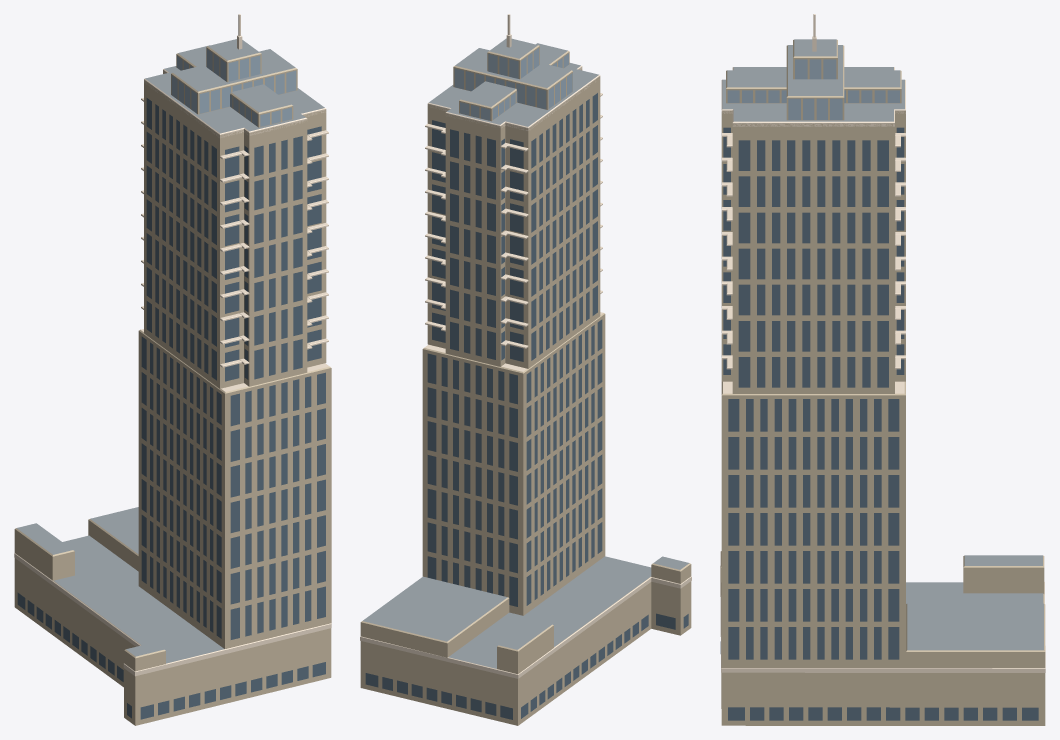
The model's file is den-four-seasons.glb.
3 views of the same model, side by side, from view 1: azimuth 30°, elevation 25°; view 2: azimuth 150°, elevation 25°; view 3: azimuth 270°, elevation 25° (orthographic). The views are drawn at different scales.
Visible parts, largest first — view 1: Four Seasons Hotel Denver; view 2: Four Seasons Hotel Denver; view 3: Four Seasons Hotel Denver.
Boxes of the visible parts, box(x1,y1,x2,y2) form: Four Seasons Hotel Denver: box(14, 14, 331, 725); Four Seasons Hotel Denver: box(360, 14, 691, 725); Four Seasons Hotel Denver: box(720, 14, 1045, 725).
Size of the model in its own units: 57.14 by 178 by 76.44.
